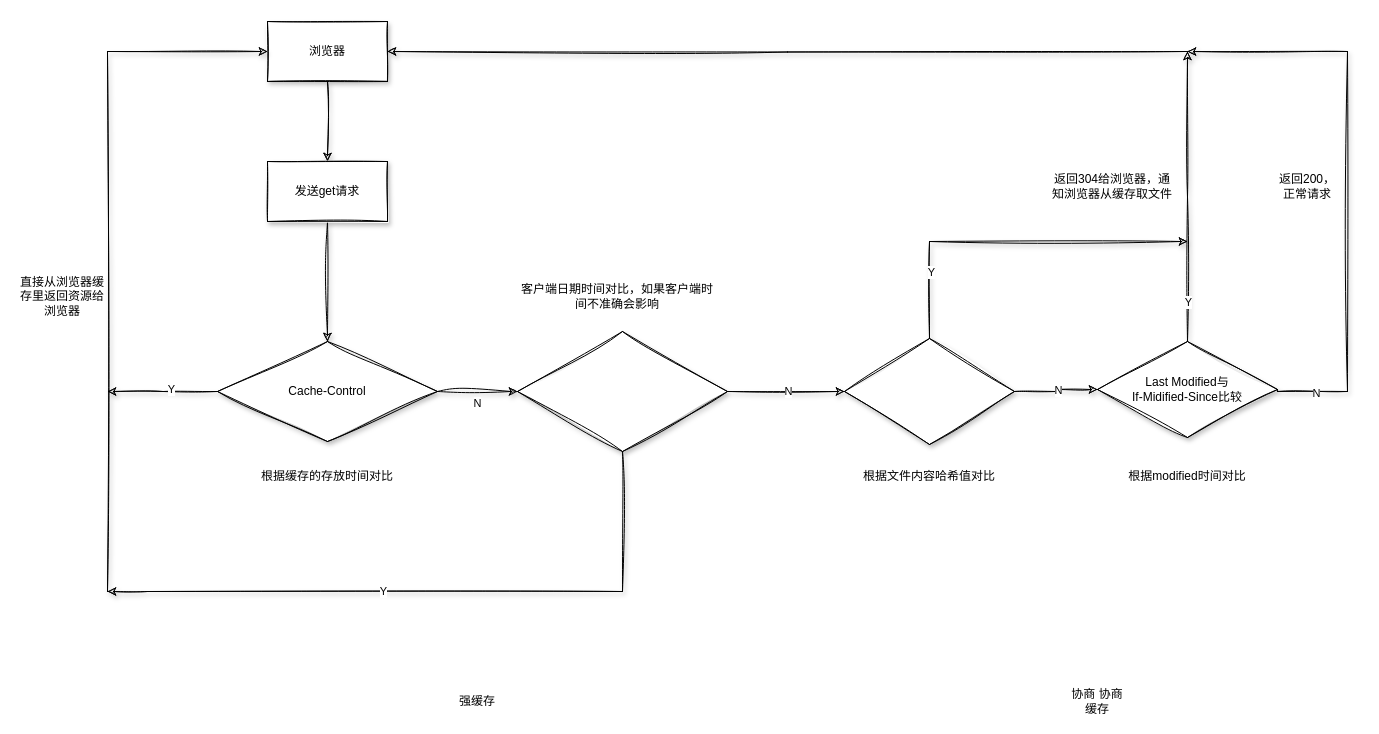
Image size: 1379x734. Some labels were removed from this diagram. Each missing label, with the centre of its shape:
ETag与 If-None-Match对比: point 930,393
Expire: point 623,392
